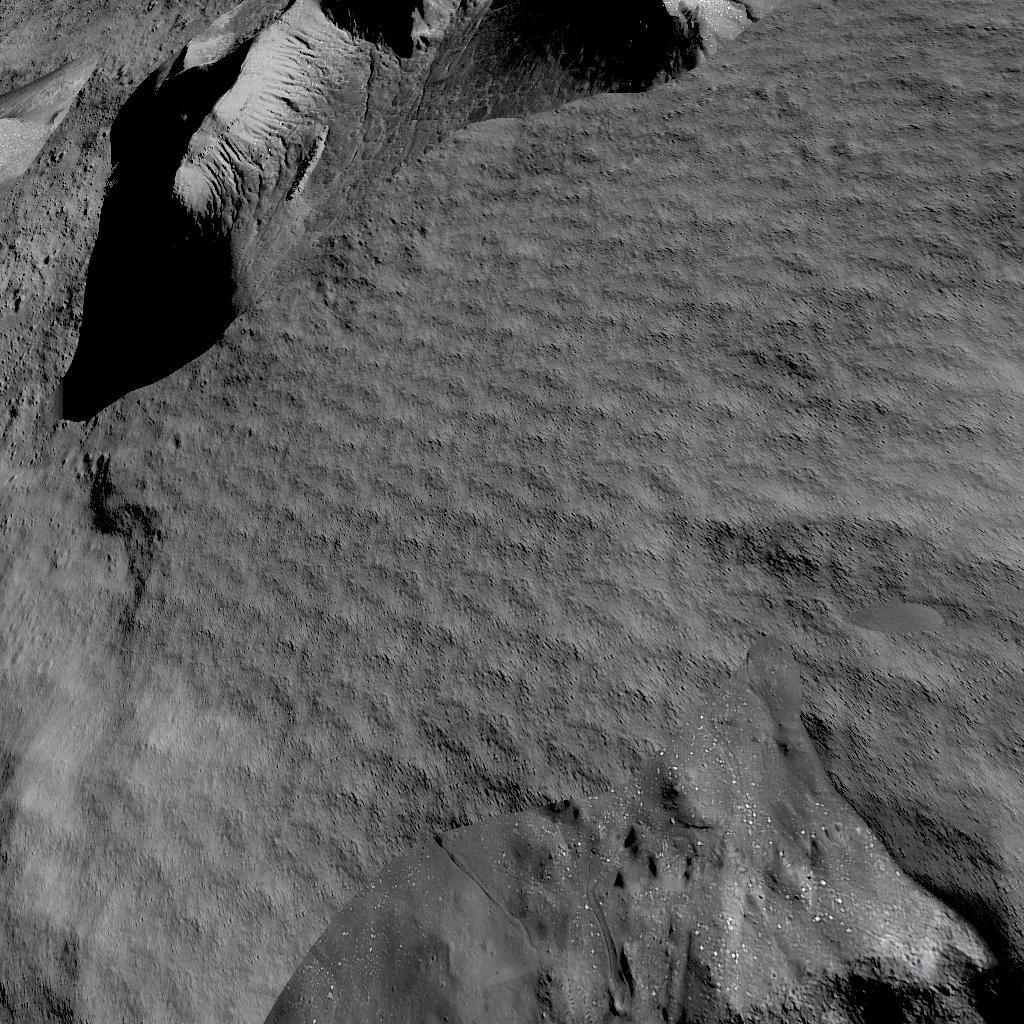Boulders: (64, 0, 788, 423)
Crater: (268, 805, 1024, 1024)
Plan surface: (0, 435, 1024, 790), (803, 0, 1024, 423), (0, 805, 256, 1024)
